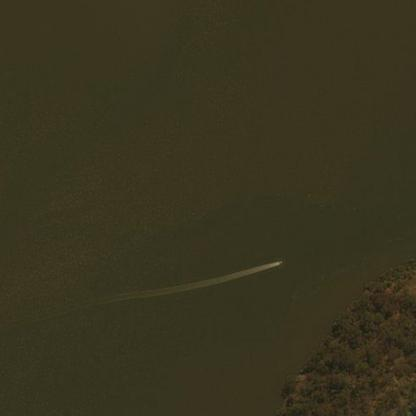ship: (278, 260, 281, 263)
